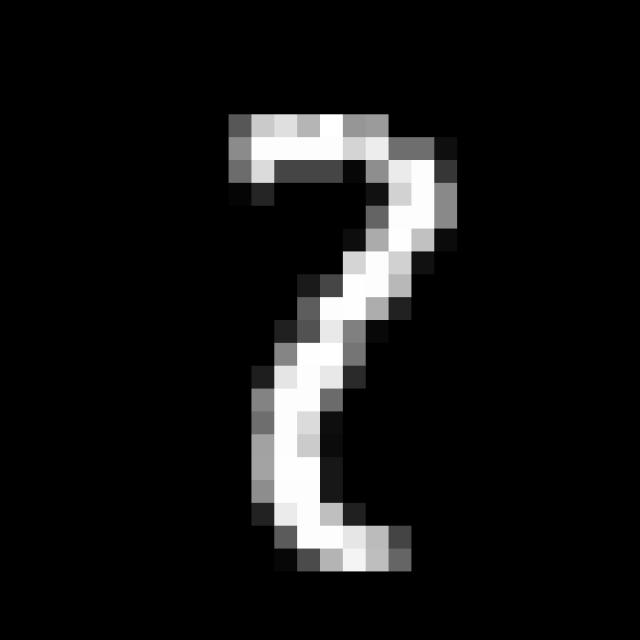two -2-: (213, 91, 477, 592)
